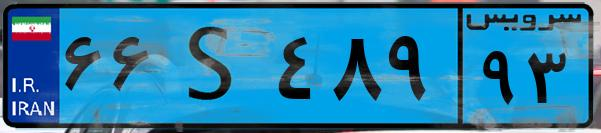3: (525, 38, 570, 115)
4: (270, 28, 330, 110)
6: (57, 26, 110, 100), (110, 28, 158, 98)
8: (330, 28, 385, 110)
9: (385, 28, 445, 110), (475, 38, 525, 113)
S: (158, 12, 270, 120)
